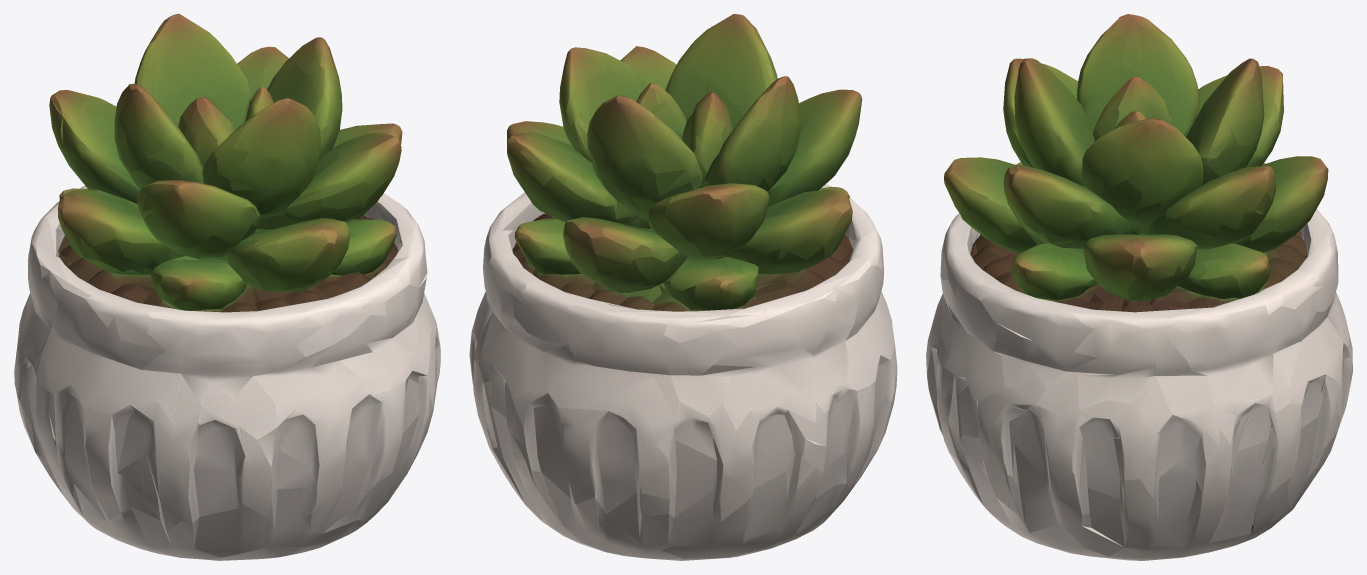
File: plant_small.glb
3 renders of one model, left to right at view 1: azimuth 30°, elevation 25°; view 2: azimuth 150°, elevation 25°; view 3: azimuth 270°, elevation 25°, orthographic.
Visible parts, largest first — view 1: mesh_node; view 2: mesh_node; view 3: mesh_node.
Boxes of the visible parts, box(x1,y1,x2,y2) form: mesh_node: box(14, 14, 440, 560); mesh_node: box(469, 14, 897, 560); mesh_node: box(926, 14, 1352, 560).
Size of the model in its own units: 0.0699 by 0.0805 by 0.07.
1 material, 1 textured.
